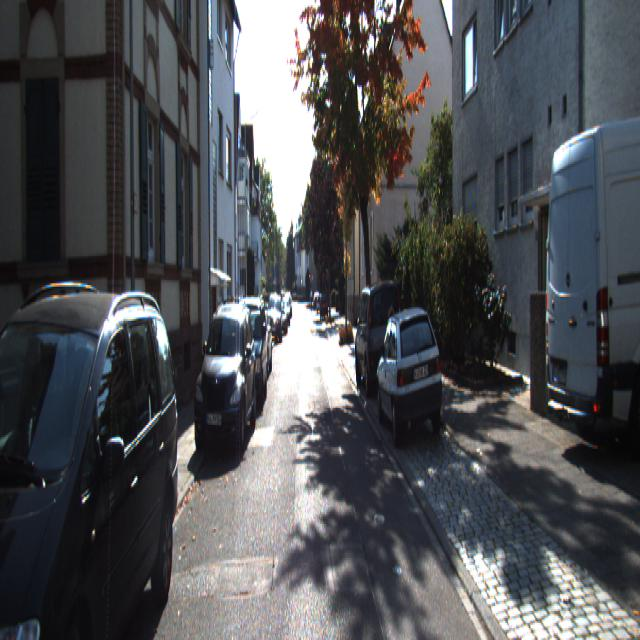Car: (0, 266, 187, 638), (539, 92, 639, 471), (191, 294, 257, 464), (374, 302, 449, 449), (352, 275, 404, 396), (230, 296, 268, 414), (266, 294, 283, 344)
